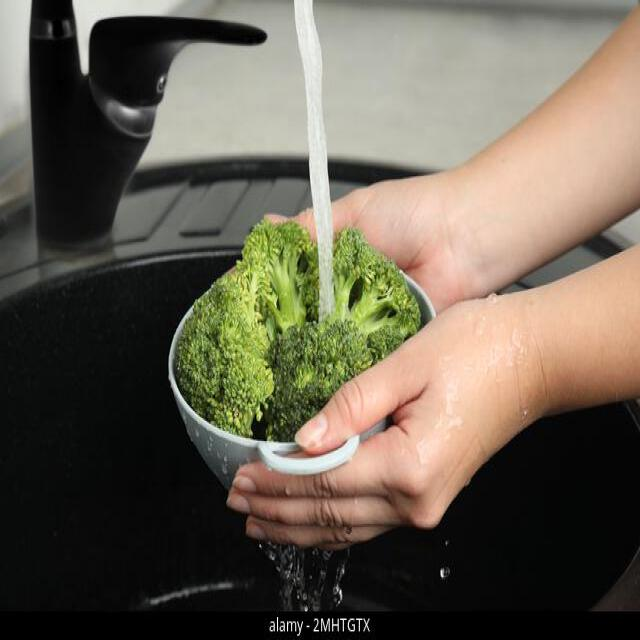broccoli: (177, 222, 413, 443), (176, 272, 278, 433), (231, 219, 317, 330)
